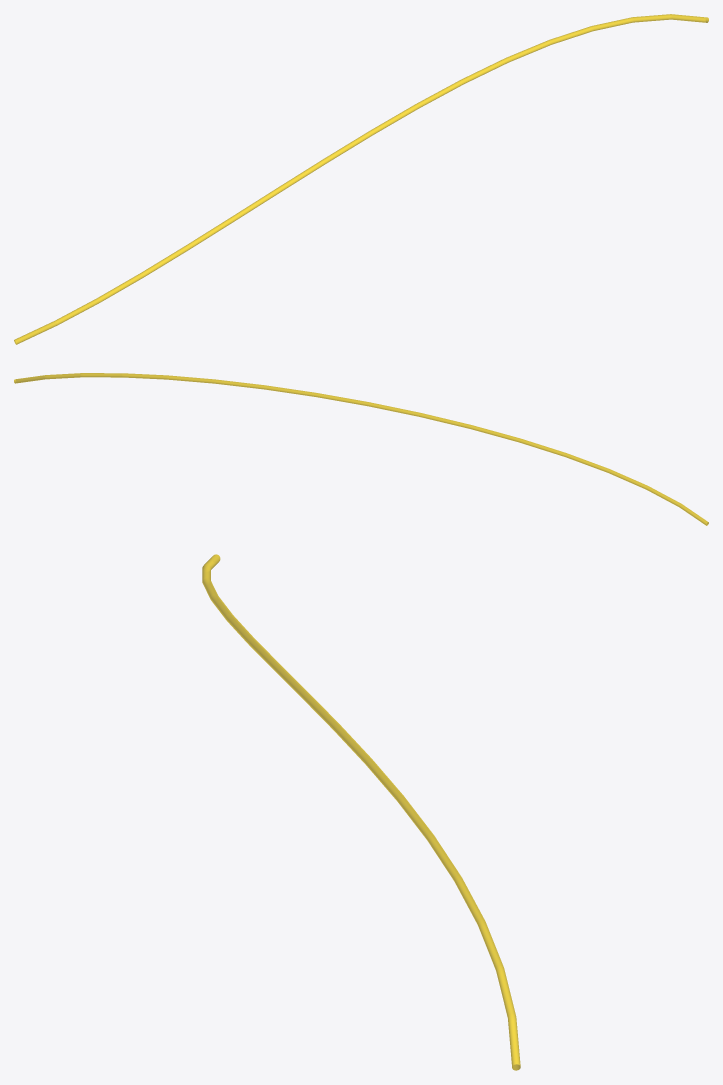
File: Event_75125125_track_70.fbx
3 renders of one model, top to bottom at view 1: azimuth 30°, elevation 25°; view 2: azimuth 150°, elevation 25°; view 3: azimuth 270°, elevation 25°, orthographic. The views are drawn at different scales.
Visible parts, largest first — view 1: Model; view 2: Model; view 3: Model.
Part boxes in pixels (box(x1,y1,x2,y2)): Model: box(14, 14, 708, 344); Model: box(14, 373, 708, 525); Model: box(202, 554, 520, 1070).
Bounding box in the file's own units: 6.62 × 0.8025 × 1.48.
